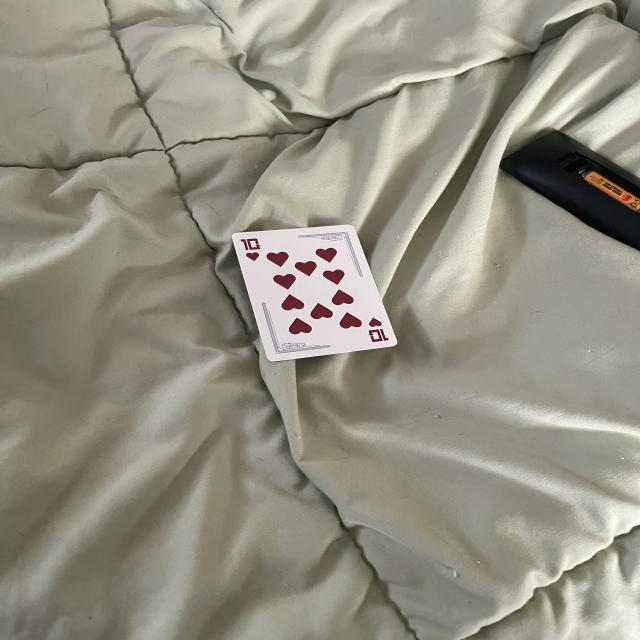10 of hearts: (234, 226, 396, 362)
